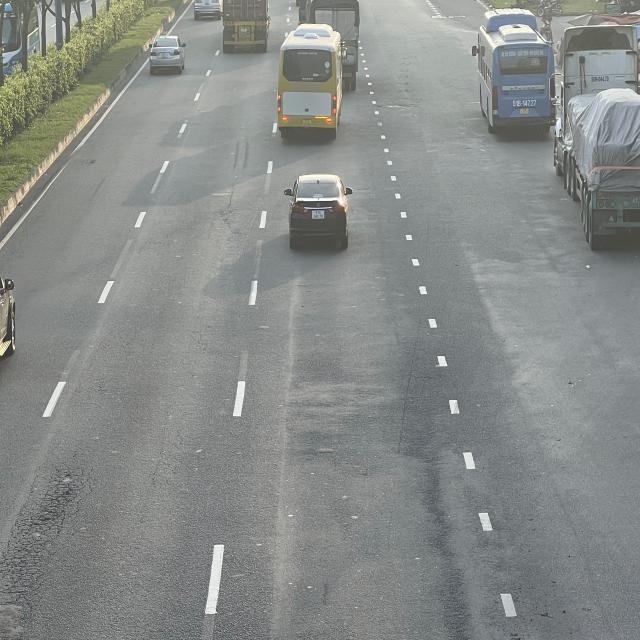car: (288, 174, 355, 246), (148, 36, 185, 73)
coach: (472, 10, 552, 134), (277, 22, 343, 136)
container: (552, 11, 639, 249)
